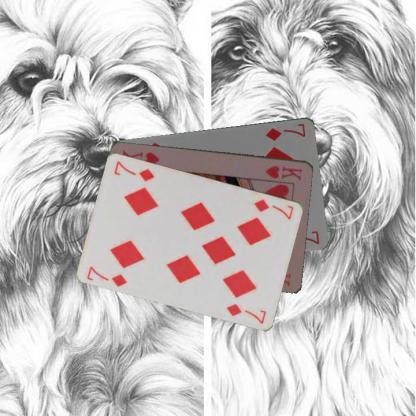7d: (252, 196, 296, 221), (84, 264, 129, 288), (263, 120, 307, 142)
Kh: (263, 162, 304, 182)
